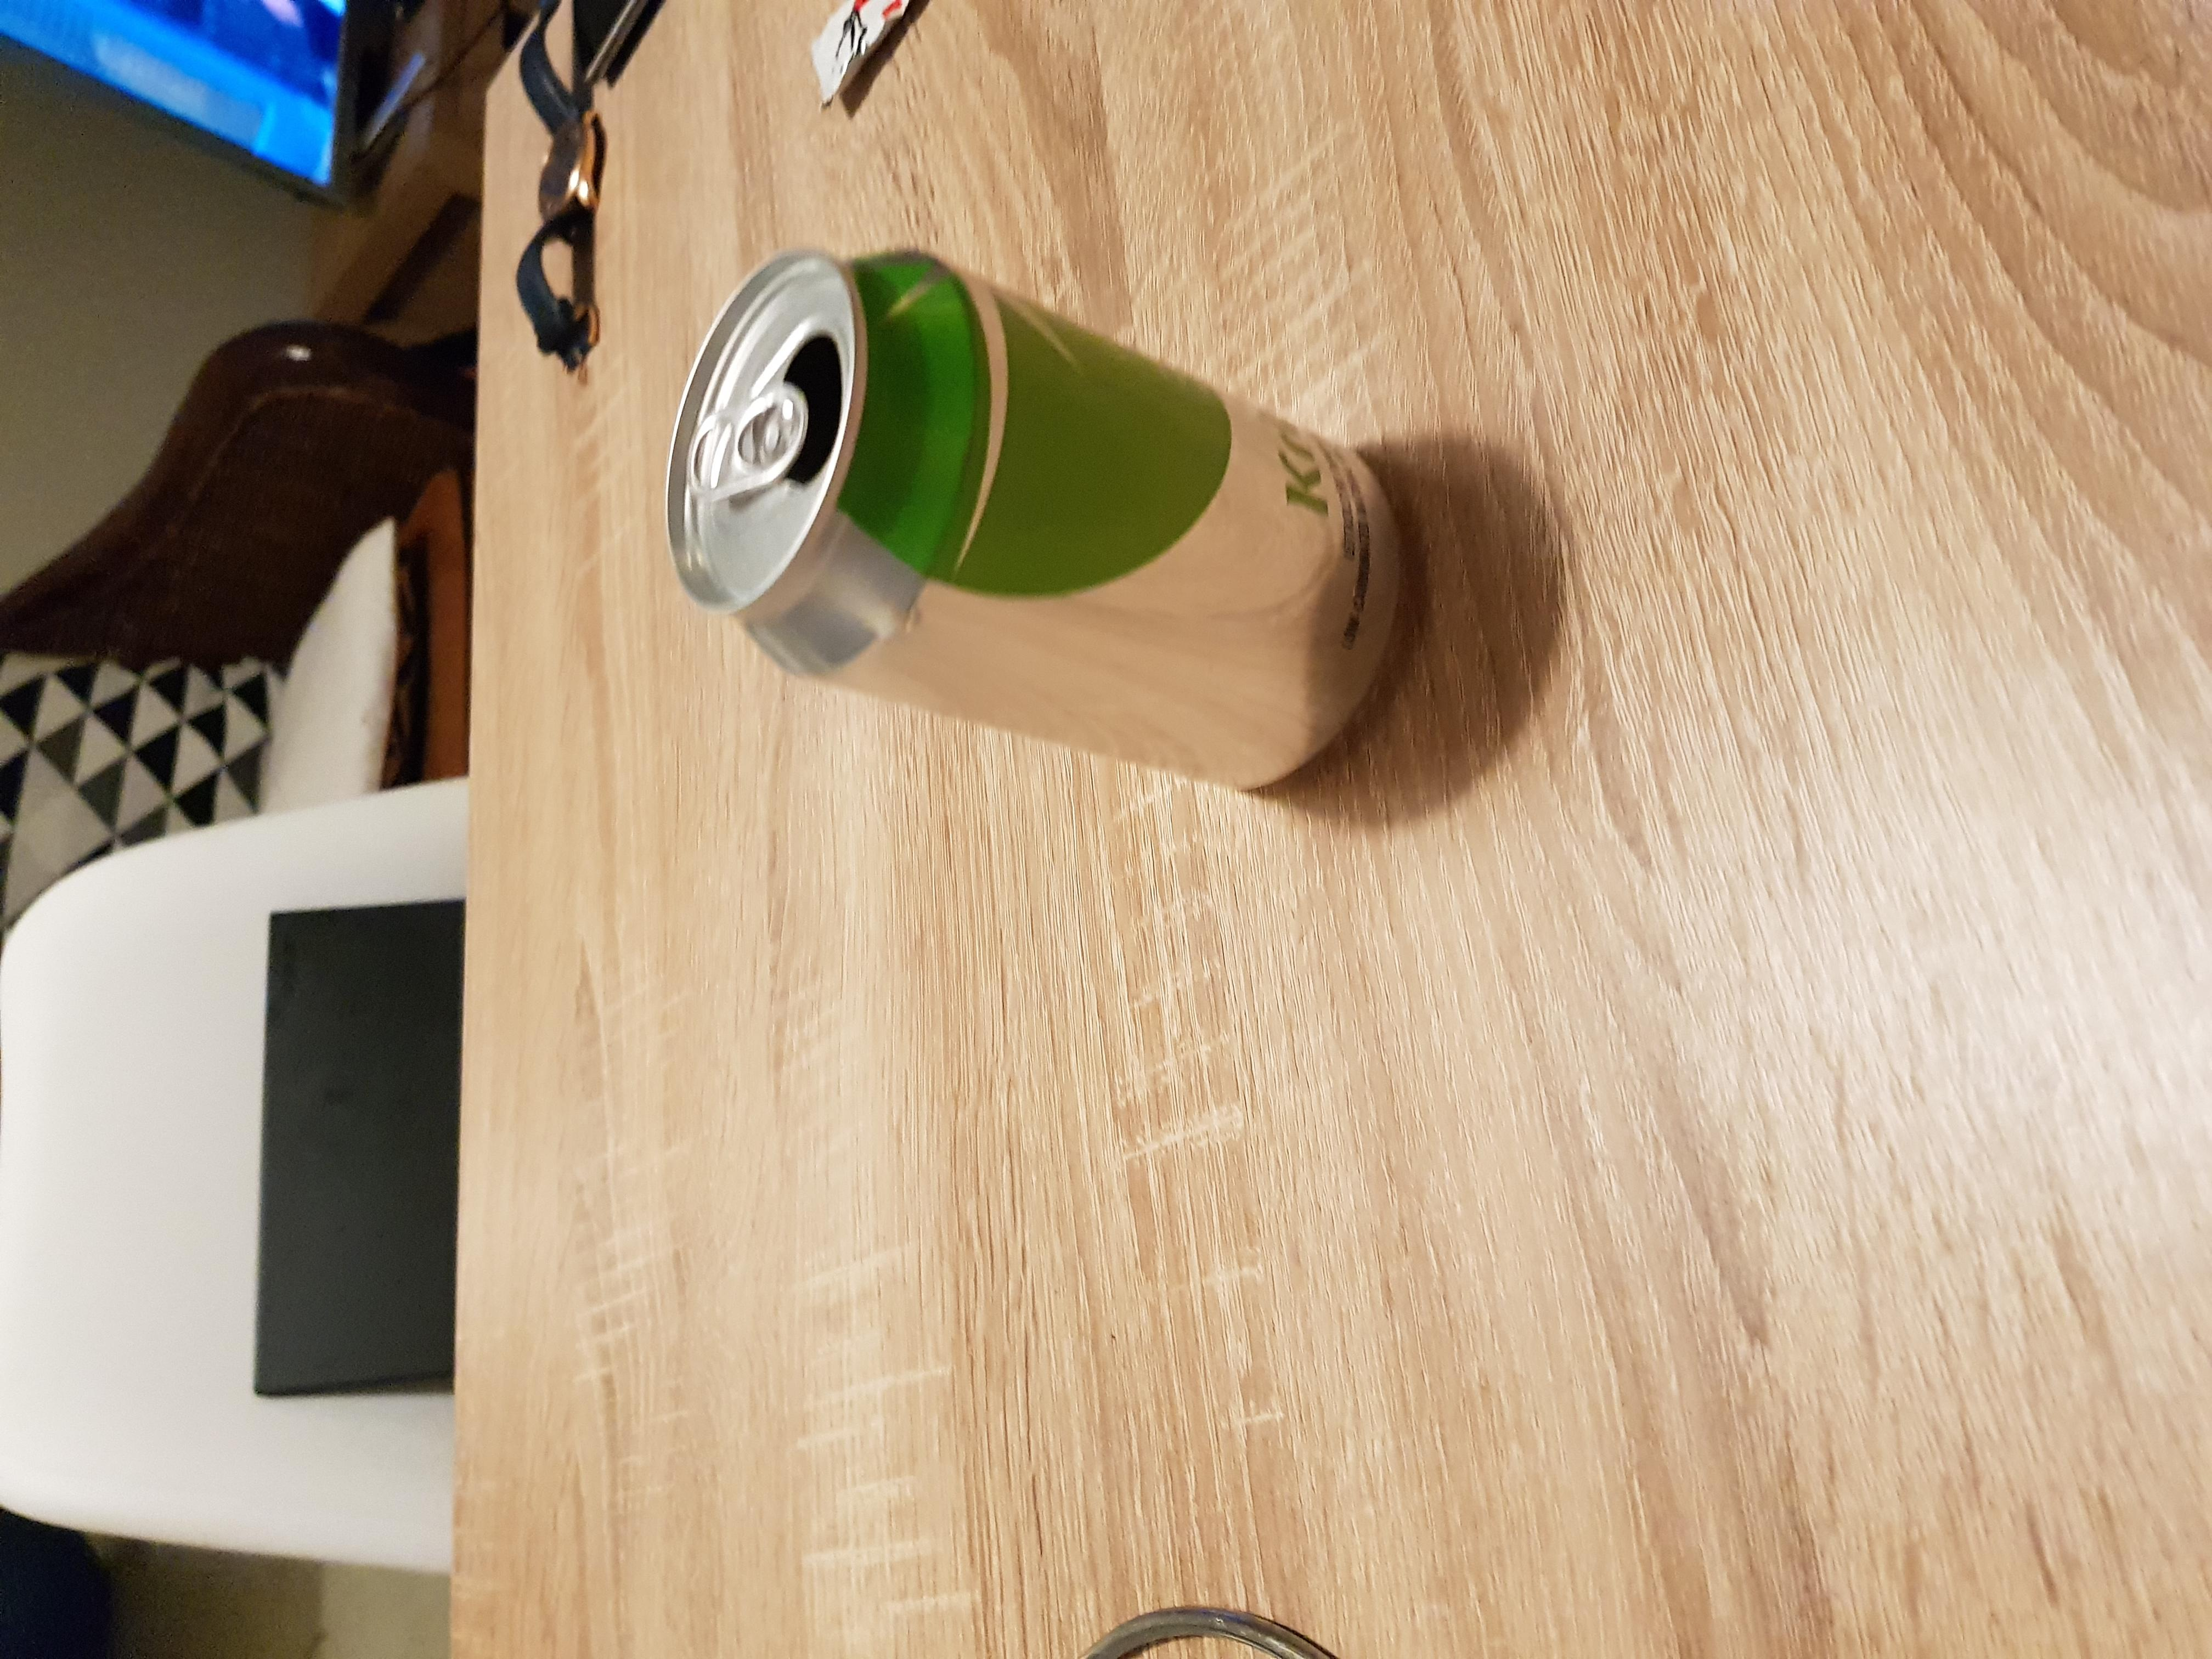can: (655, 239, 1416, 802)
